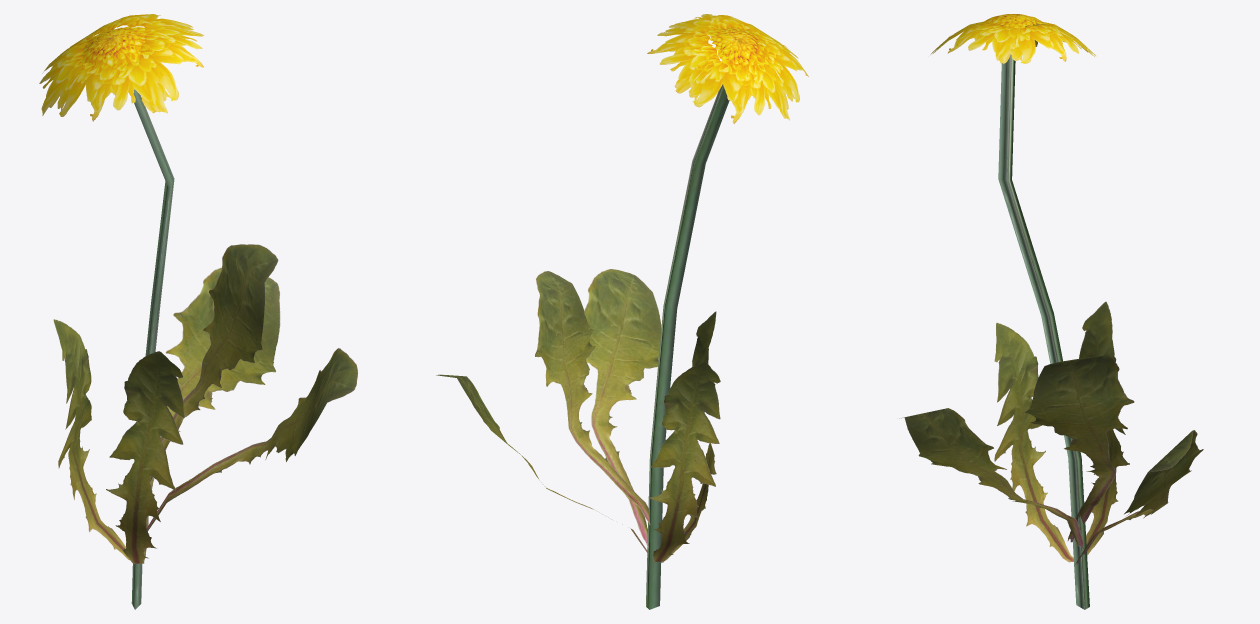
File: Pissenlit02.fbx
3 views of the same model, side by side, from view 1: azimuth 30°, elevation 25°; view 2: azimuth 150°, elevation 25°; view 3: azimuth 270°, elevation 25° (orthographic). The views are drawn at different scales.
Parts seen in each view (by area): view 1: pPlane87; view 2: pPlane87; view 3: pPlane87.
Boxes of the visible parts, x1=… form: pPlane87: x1=39, y1=14, x2=357, y2=609; pPlane87: x1=436, y1=14, x2=808, y2=609; pPlane87: x1=899, y1=14, x2=1203, y2=609.
Bounding box in the file's own units: 0.1567 × 0.2672 × 0.1635.
1 material, 1 textured.
